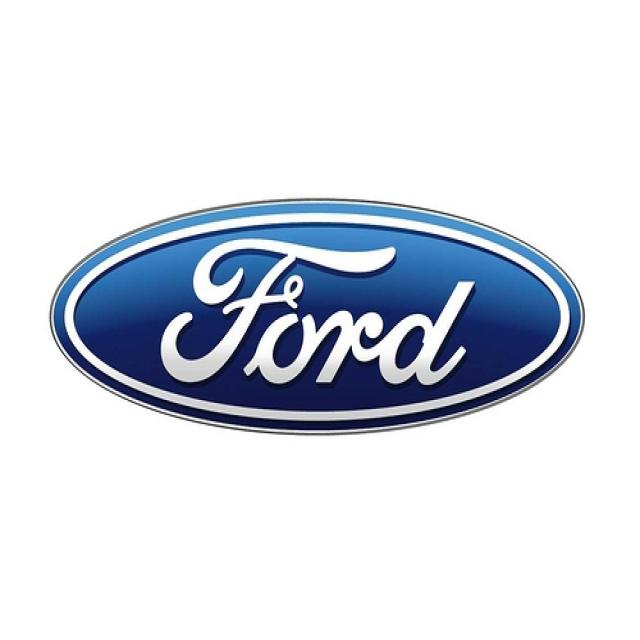ford: (45, 193, 594, 446)
